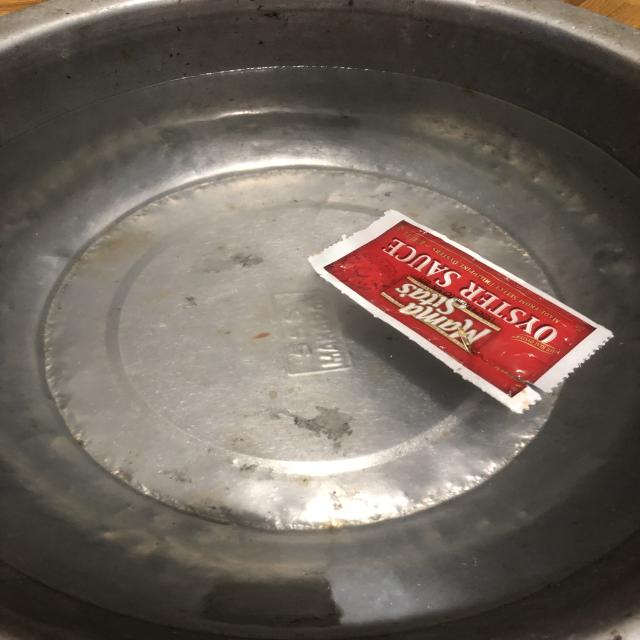Plastic Wrapper: (308, 210, 613, 414)
